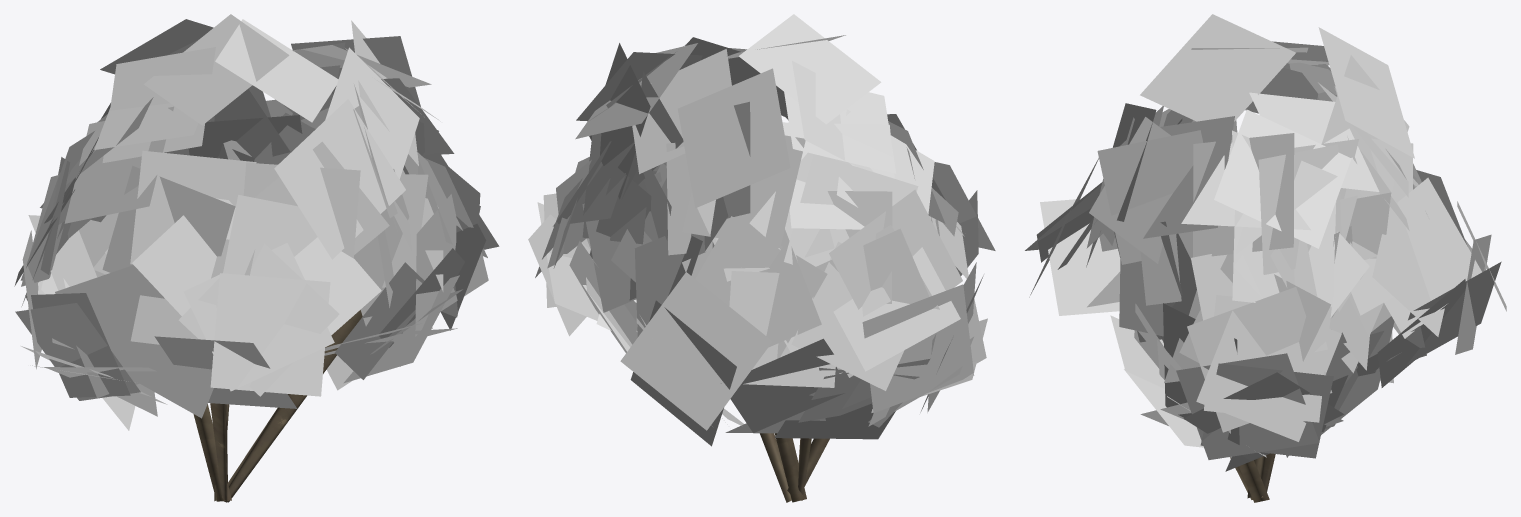
The model's file is Standar Bush_LOD_2.fbx.
3 views of the same model, side by side, from view 1: azimuth 30°, elevation 25°; view 2: azimuth 150°, elevation 25°; view 3: azimuth 270°, elevation 25° (orthographic). The views are drawn at different scales.
Parts seen in each view (by area): view 1: Standar_Bush_Leaves_LOD_2, Standar_Bush_Branches_LOD_2; view 2: Standar_Bush_Leaves_LOD_2, Standar_Bush_Branches_LOD_2; view 3: Standar_Bush_Leaves_LOD_2, Standar_Bush_Branches_LOD_2.
Part boxes in pixels (x1,y1,x2,y2): Standar_Bush_Leaves_LOD_2: (14, 14, 499, 430); Standar_Bush_Branches_LOD_2: (193, 310, 362, 502); Standar_Bush_Leaves_LOD_2: (528, 14, 995, 446); Standar_Bush_Branches_LOD_2: (760, 433, 829, 502); Standar_Bush_Leaves_LOD_2: (1025, 14, 1506, 471); Standar_Bush_Branches_LOD_2: (1230, 453, 1275, 502).
Size of the model in its own units: 211 by 213 by 197.
